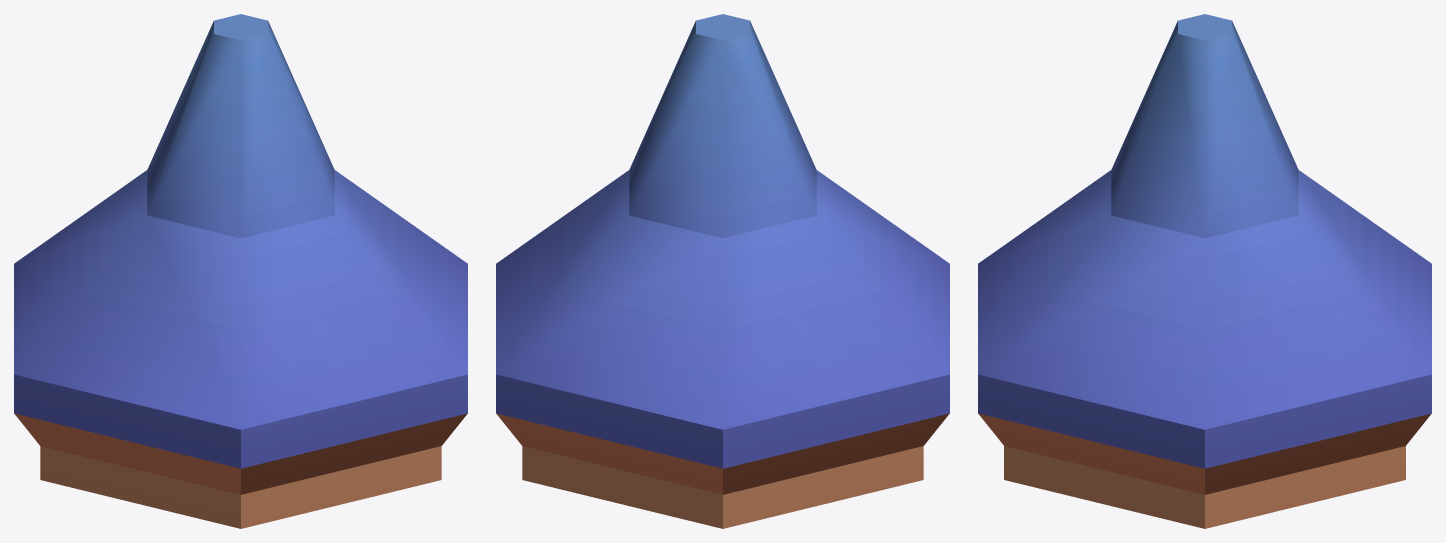
File: tower-hexagon-roof.glb
3 views of the same model, side by side, from view 1: azimuth 30°, elevation 25°; view 2: azimuth 150°, elevation 25°; view 3: azimuth 270°, elevation 25° (orthographic).
Visible parts, largest first — view 1: tower-hexagon-roof; view 2: tower-hexagon-roof; view 3: tower-hexagon-roof.
Part boxes in pixels (<box>): tower-hexagon-roof: <box>14,14,467,528</box>; tower-hexagon-roof: <box>496,14,949,528</box>; tower-hexagon-roof: <box>978,14,1431,528</box>.
Size of the model in its own units: 0.9763 by 0.83 by 0.8456.
1 material, 1 textured.
